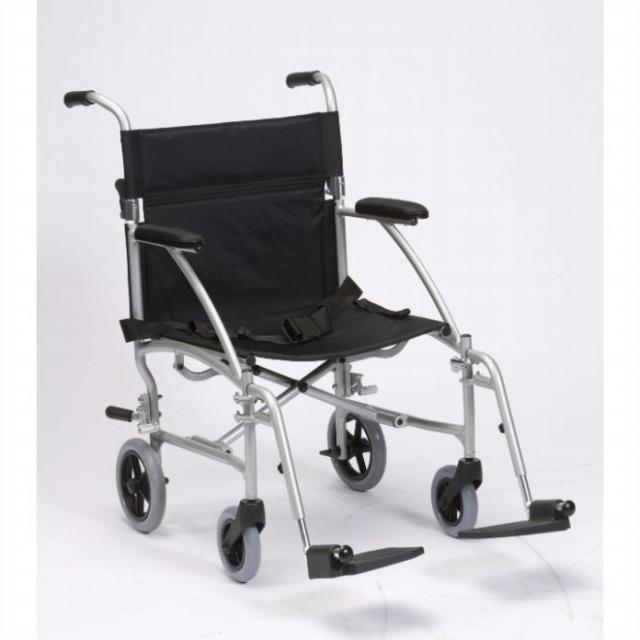wheelchair: (47, 62, 583, 590)
